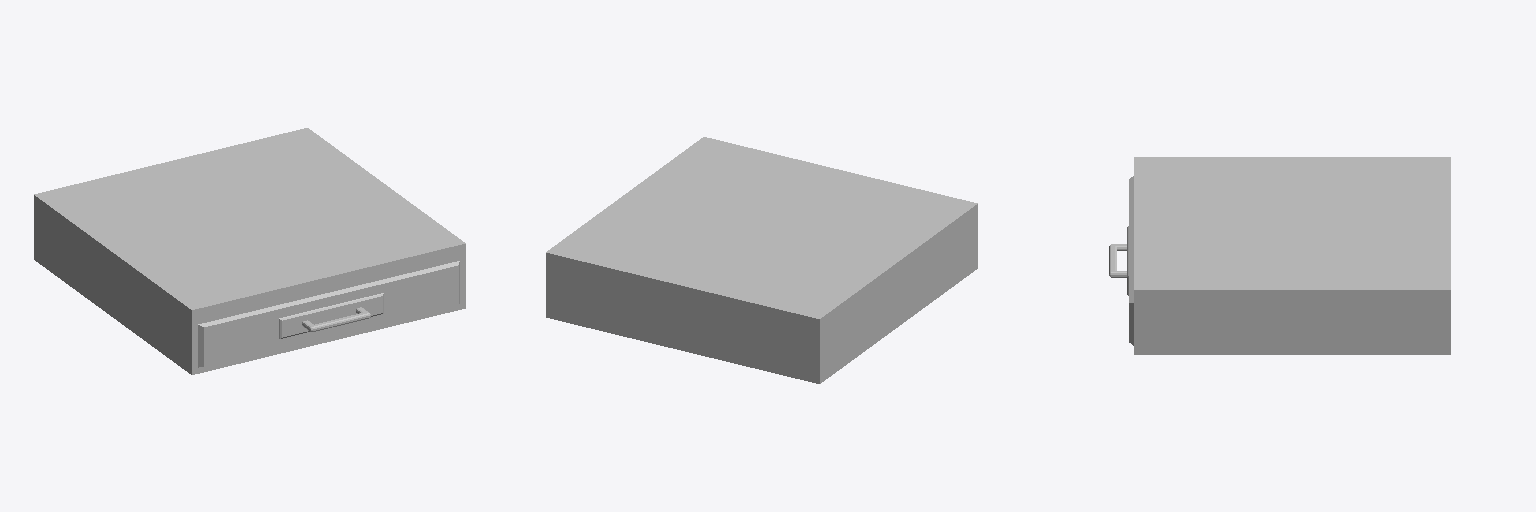
The model's file is sideTableShelf_5.obj.
The picture shows the model from 3 angles: view 1: azimuth 30°, elevation 25°; view 2: azimuth 150°, elevation 25°; view 3: azimuth 270°, elevation 25°; orthographic projection.
Size of the model in its own units: 7.37 by 1.67 by 7.95.